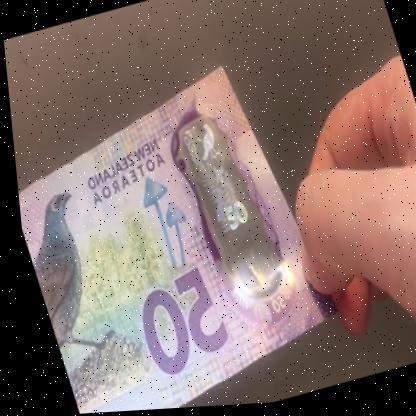50B: (173, 110, 282, 306)
